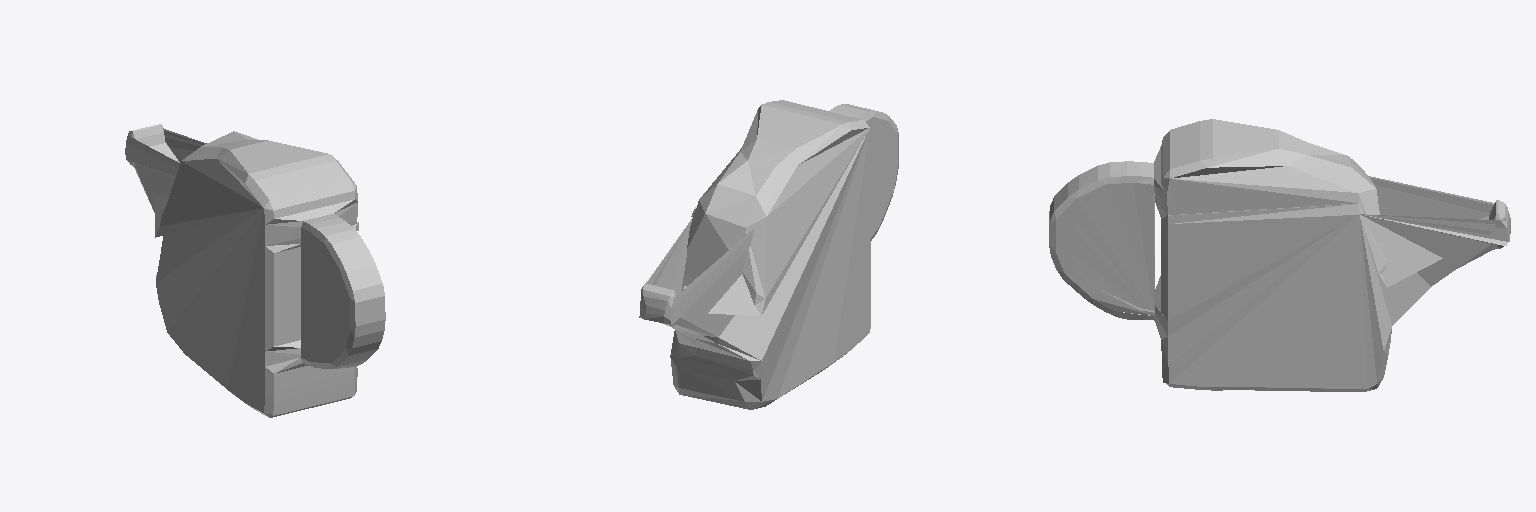
The model's file is Can OBJ.obj.
The picture shows the model from 3 angles: view 1: azimuth 30°, elevation 25°; view 2: azimuth 150°, elevation 25°; view 3: azimuth 270°, elevation 25°; orthographic projection.
Visible parts, largest first — view 1: Plane; view 2: Plane; view 3: Plane.
Part boxes in pixels (bbox=[...]): Plane: bbox=[125, 124, 385, 417]; Plane: bbox=[639, 100, 898, 409]; Plane: bbox=[1049, 119, 1510, 391].
Size of the model in its own units: 0.3335 by 0.7916 by 1.42.